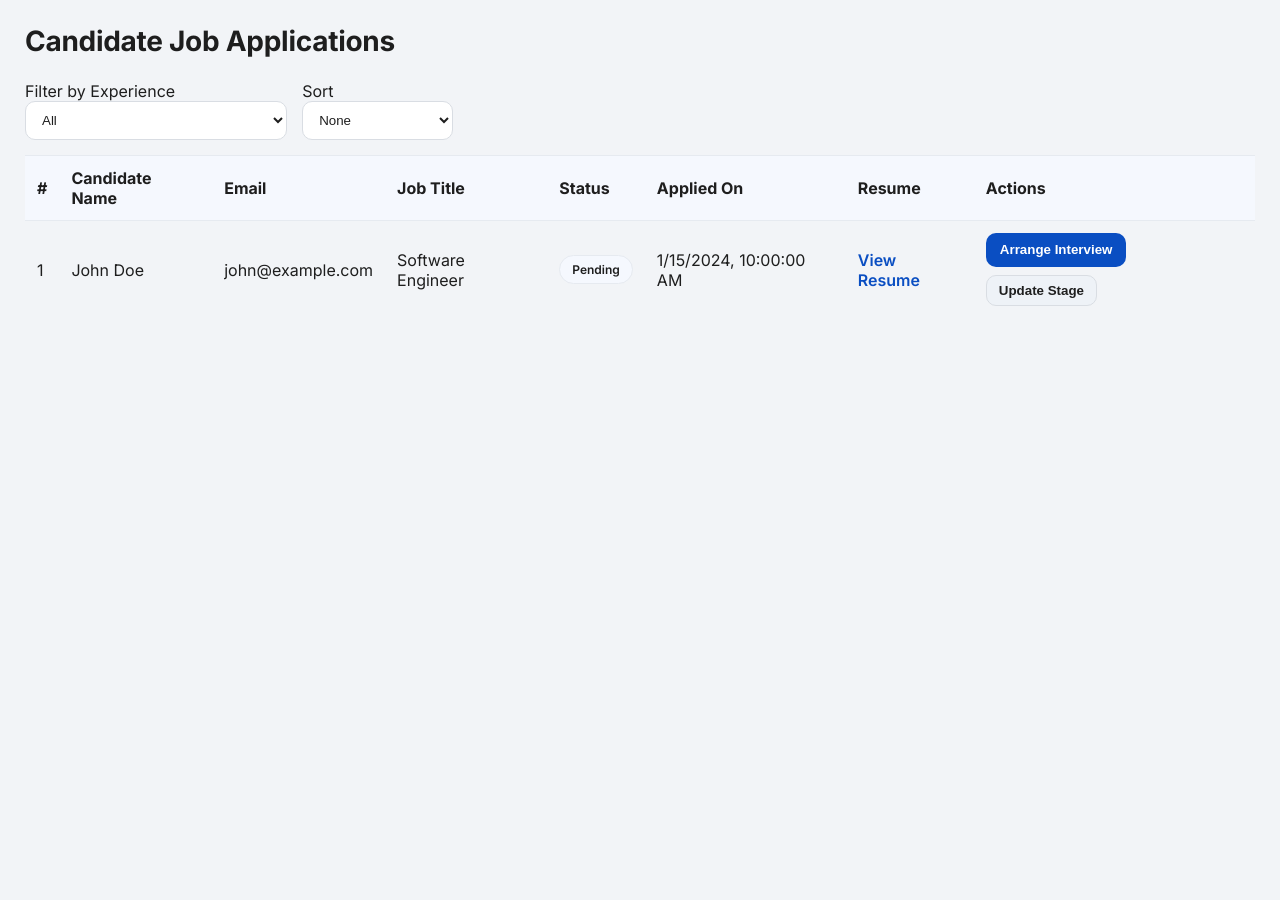
Test: JobApplications Component › closes schedule modal on close button click
Click the button "Arrange Interview". click: (1056, 250)
box: [986,233,1126,266]
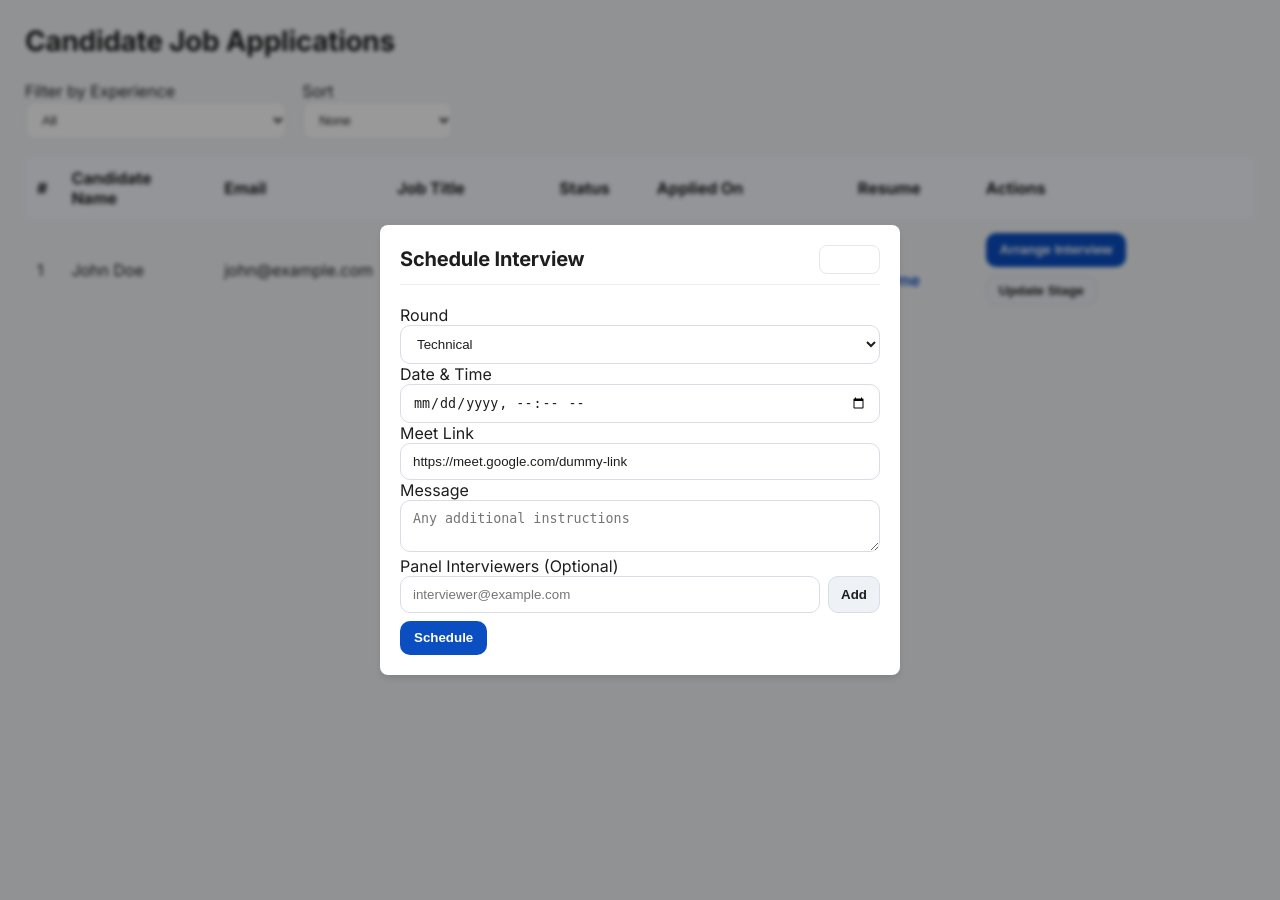
Click the button "Close". click: (849, 260)
box: [819,246,880,274]
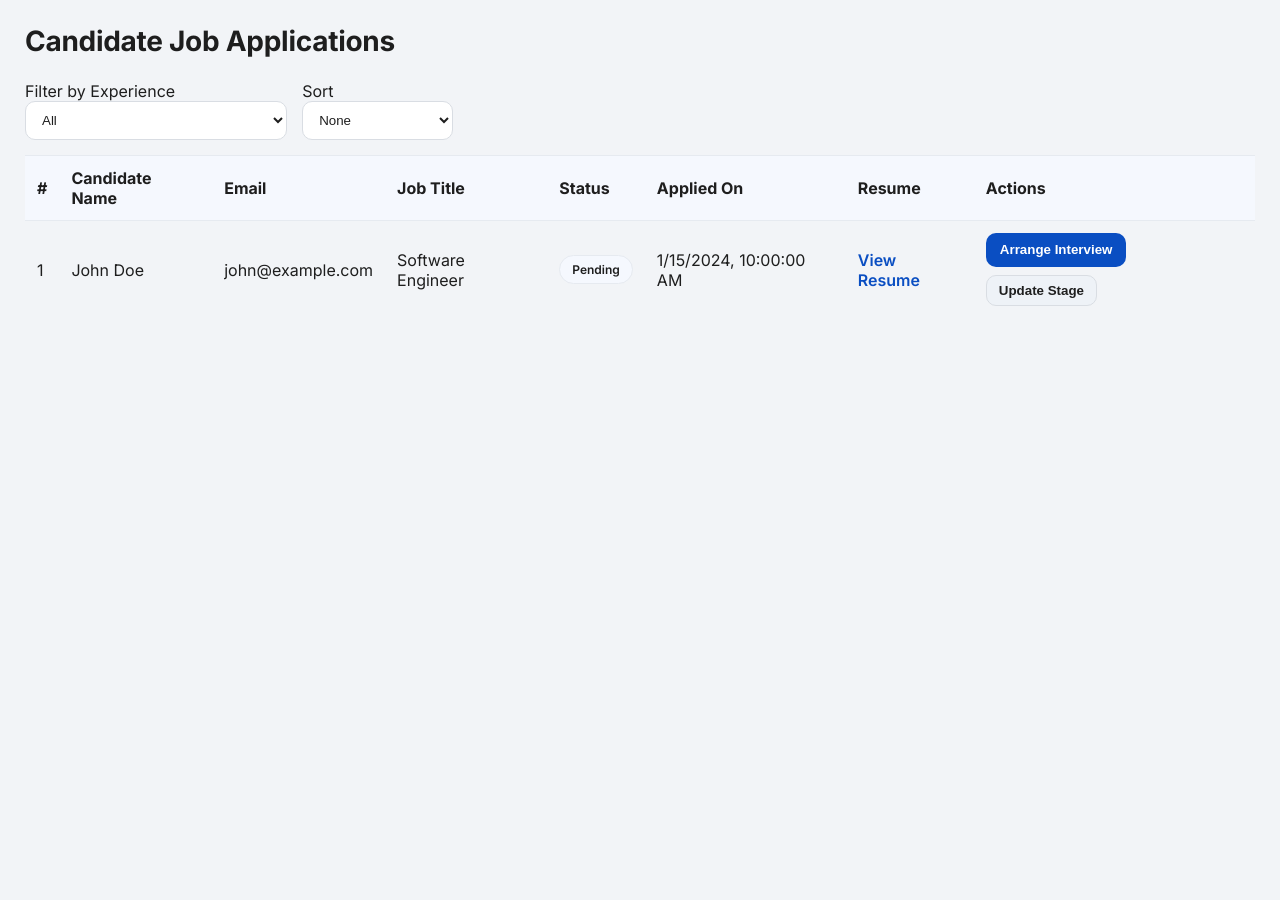
expect the heading "Schedule Interview" is gone: met
